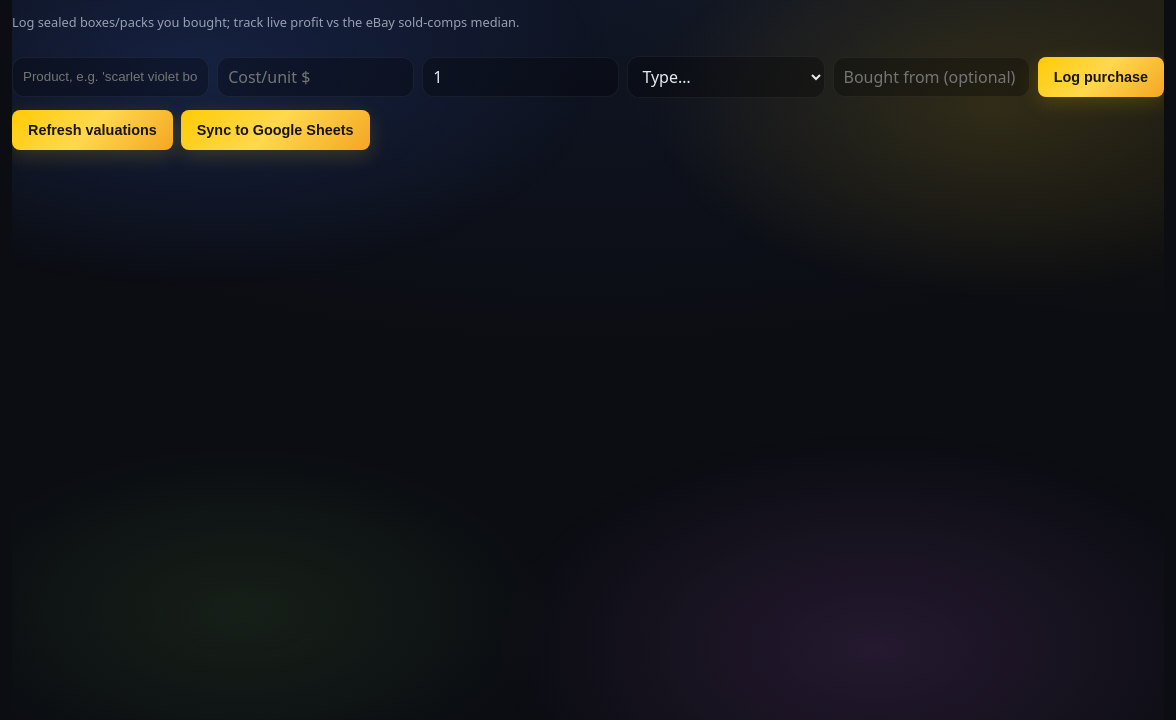
it: SealedLedger › shows setup instructions when sync is not configured
Click the button "Sync to Google Sheets": point(275, 130) [181,110,370,150]
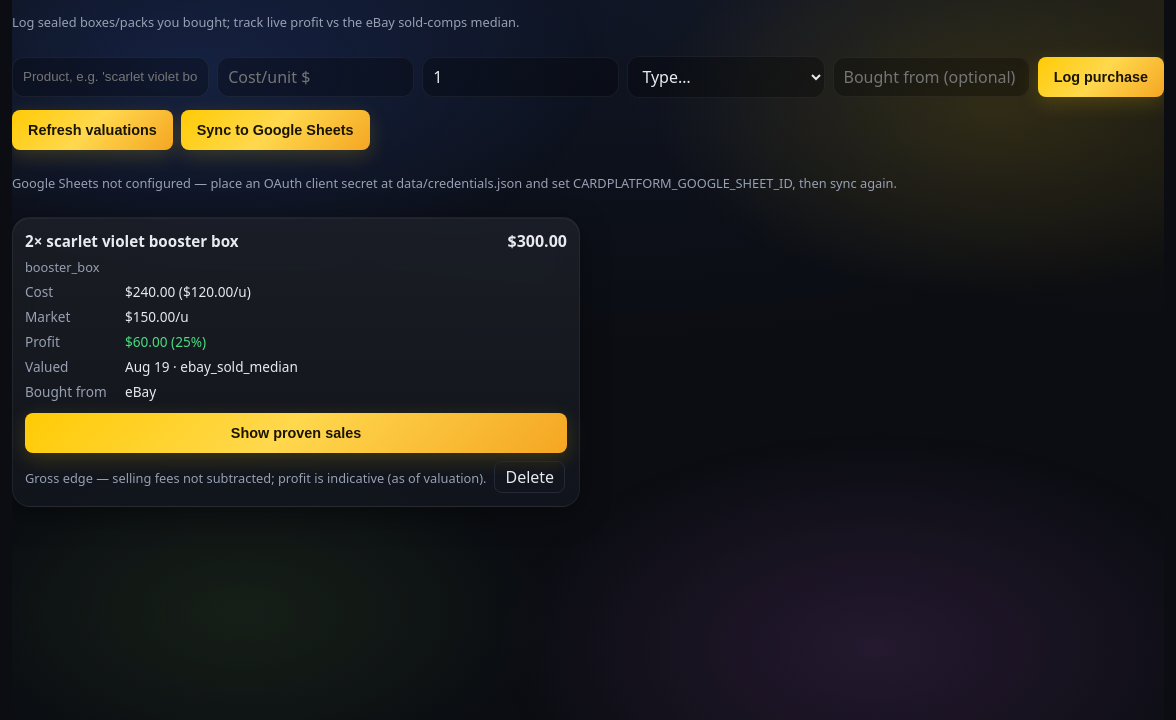
Result: the text "not configured" is shown at [12,174,897,192]
